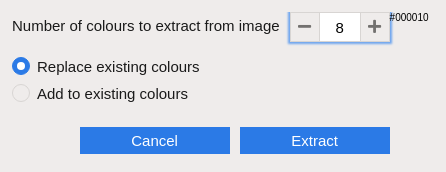
Image colour extractor component › has disabled subtract button when replacing and value is maximum
Replace the text in the number field with test id "ImageColourExtractor Number Input" with "20" at [340, 27], box 320,12 -> 360,42
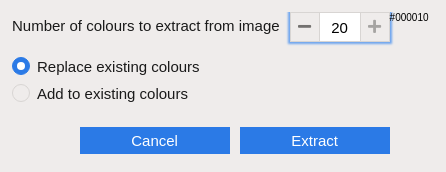
Expected: the button with test id "ImageColourExtractor Subtract Button" is enabled, 290,12 -> 320,42
Expected: the button with test id "ImageColourExtractor Add Button" is disabled, 360,12 -> 390,42
